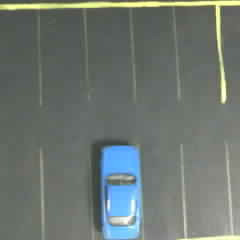Car: (85, 139, 144, 239)
